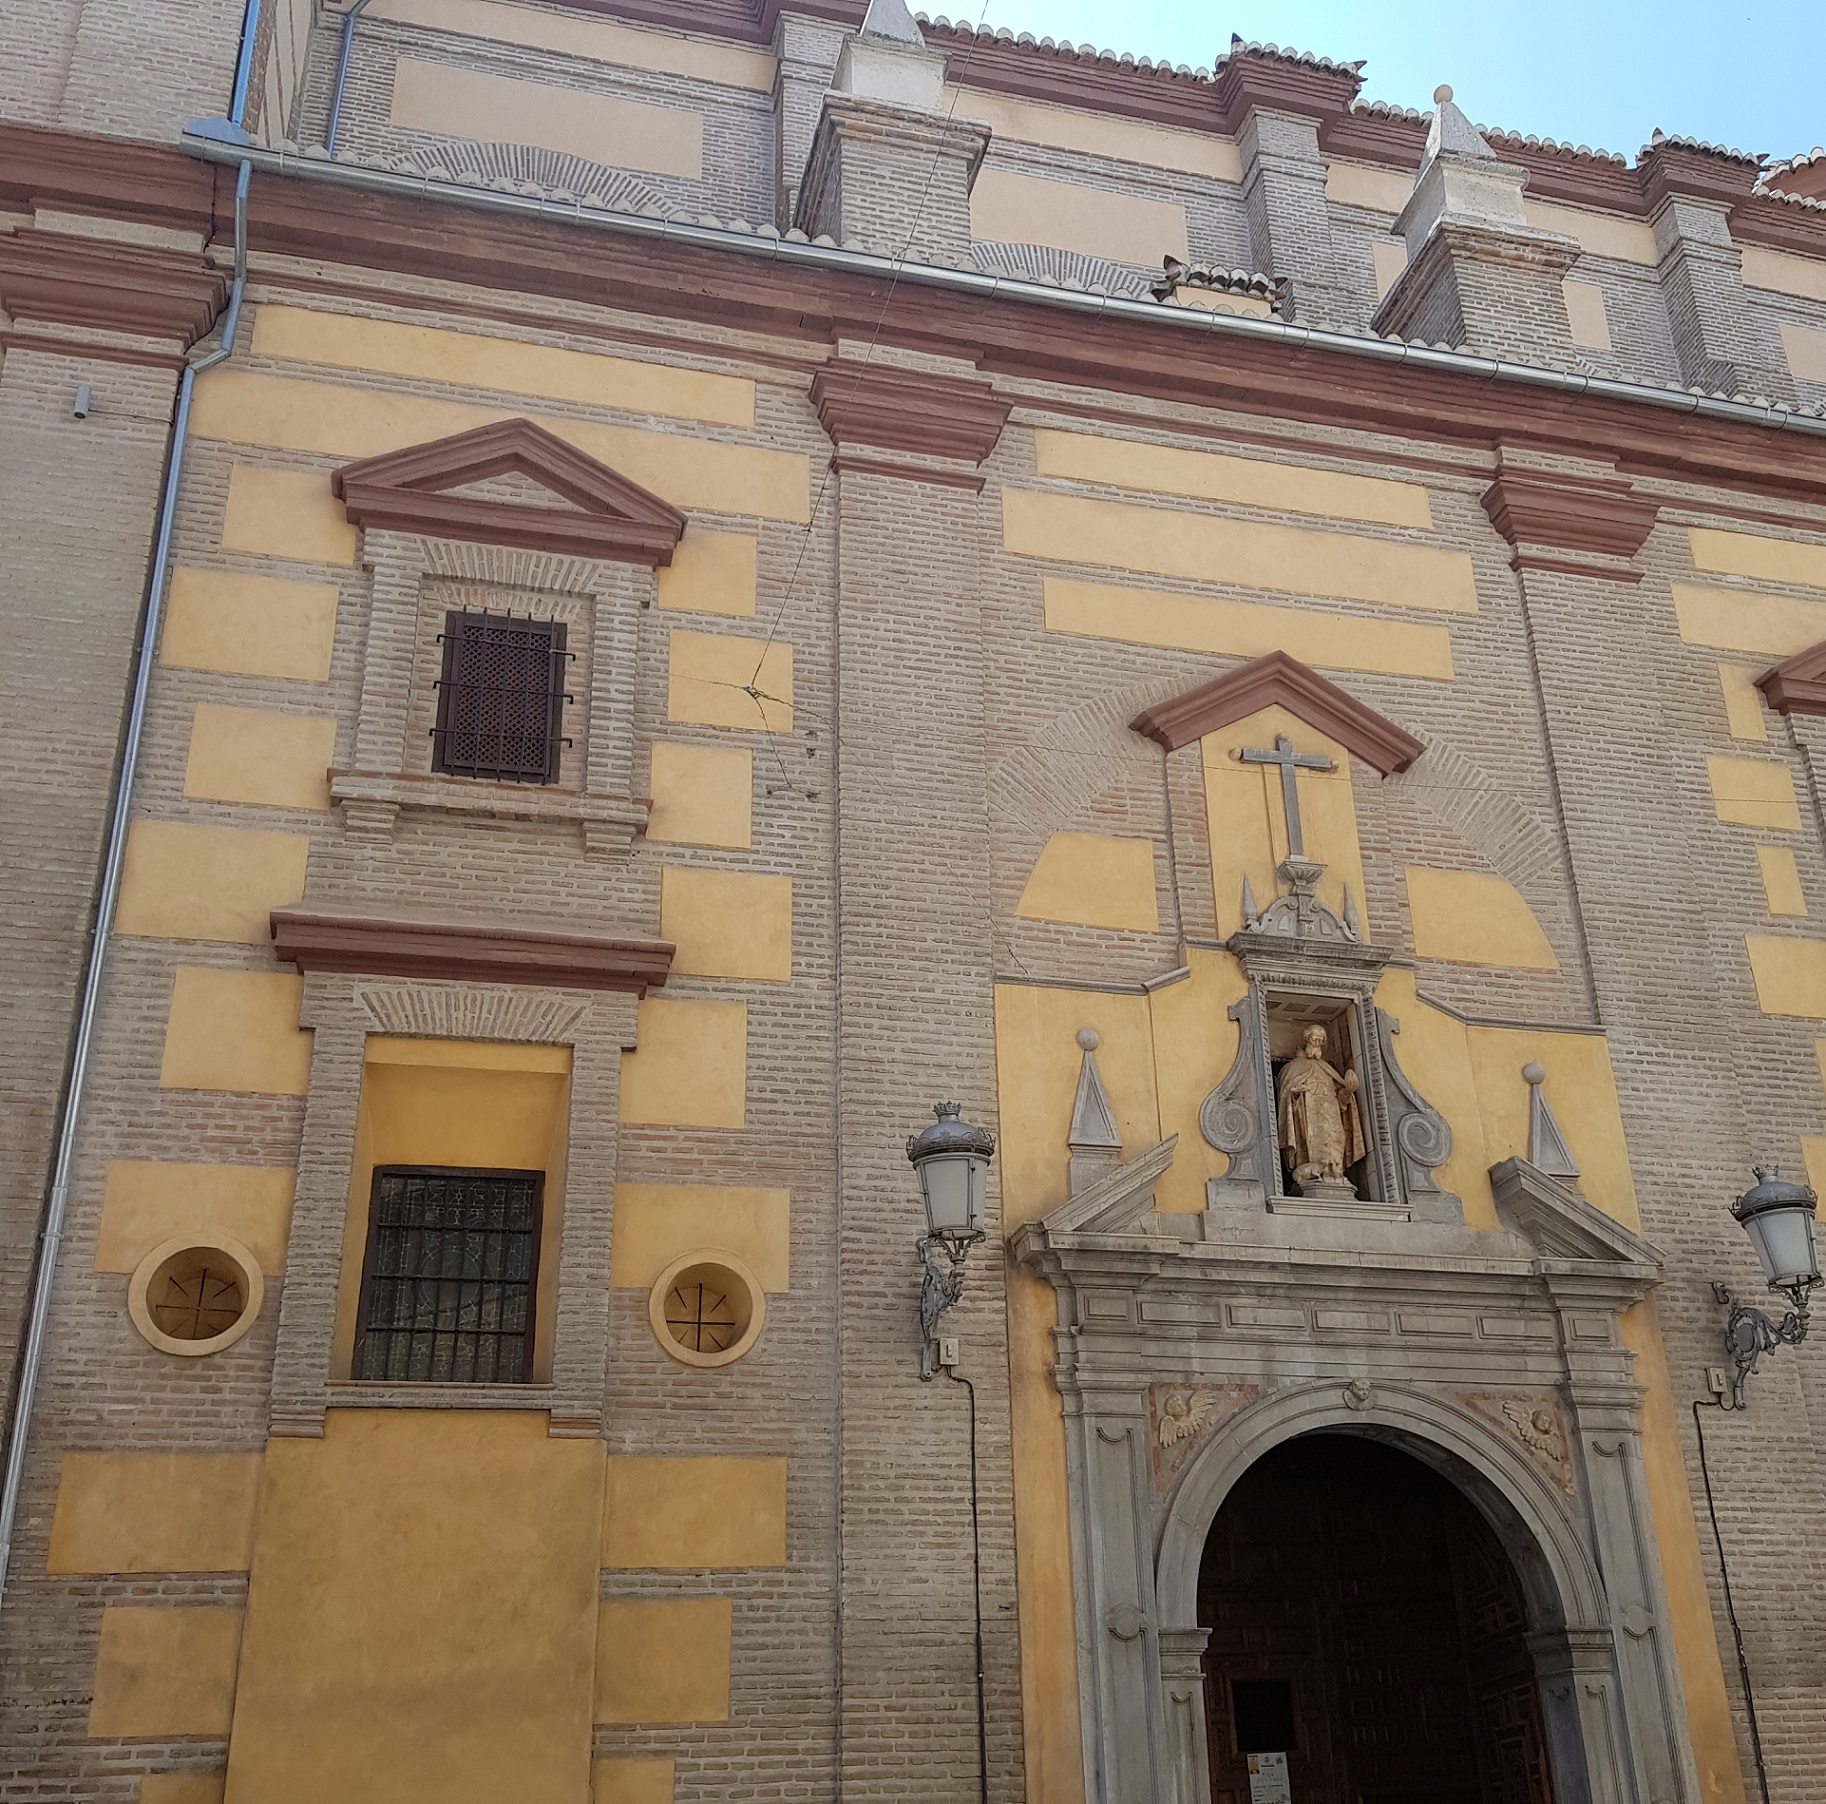arco-medio-punto: (1183, 1411, 1591, 1697)
fronton: (321, 401, 702, 572)
fronton-partido: (1010, 1128, 1671, 1294)
